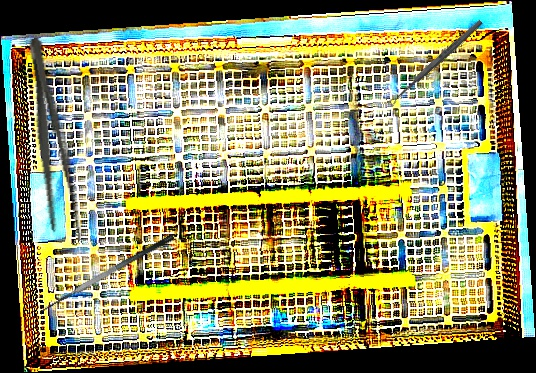Dressing Forceps: (16, 35, 87, 246)
Spatula Surgical: (36, 233, 181, 323)
Surgical Spoon: (386, 18, 484, 108)
